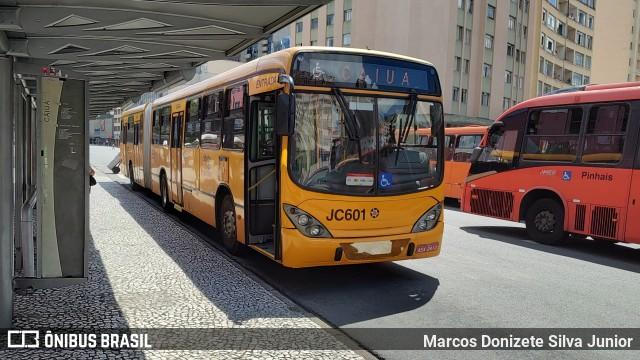CAIUA: (333, 60, 416, 88)
